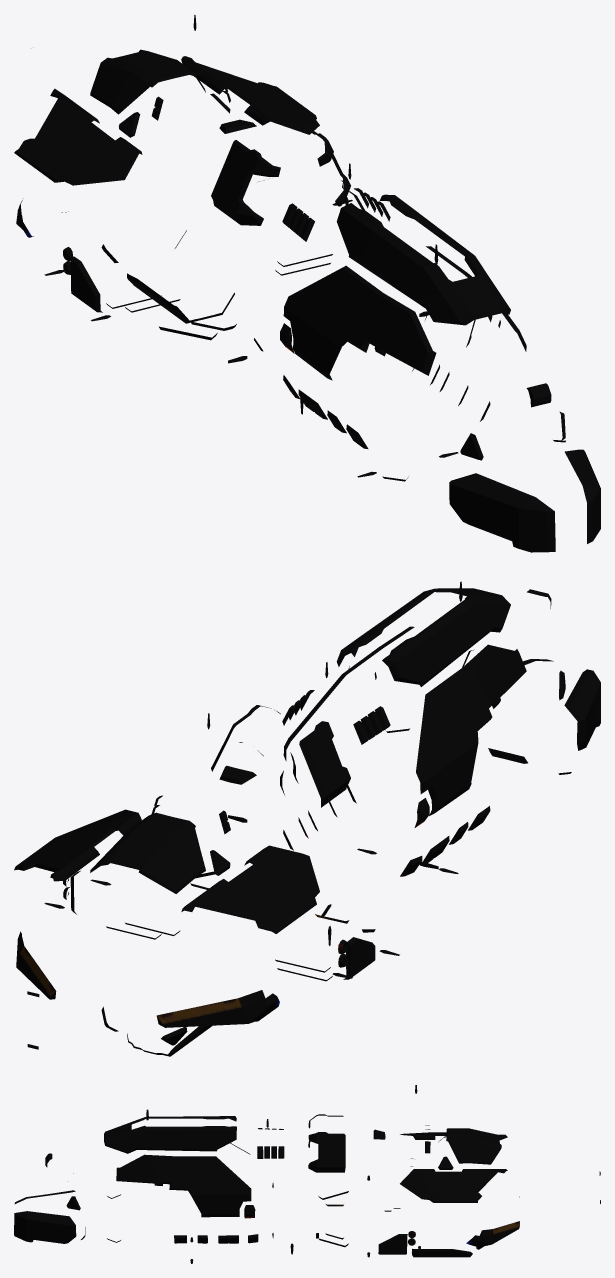
The model's file is vgr_assault_frigate_01_t2.glb.
3 views of the same model, one above another, from view 1: azimuth 30°, elevation 25°; view 2: azimuth 150°, elevation 25°; view 3: azimuth 270°, elevation 25° (orthographic). The views are drawn at different scales.
Visible parts, largest first — view 1: vgr_assault_frigate_01_t2_LOD0; view 2: vgr_assault_frigate_01_t2_LOD0; view 3: vgr_assault_frigate_01_t2_LOD0.
Boxes of the visible parts, x1,y1,x2,y2 form: vgr_assault_frigate_01_t2_LOD0: [14, 14, 600, 552]; vgr_assault_frigate_01_t2_LOD0: [14, 581, 600, 1056]; vgr_assault_frigate_01_t2_LOD0: [14, 1085, 600, 1263].
Size of what is drawn, in the model's own units: 1.69 by 1.64 by 5.11.
1 material, 1 textured.
